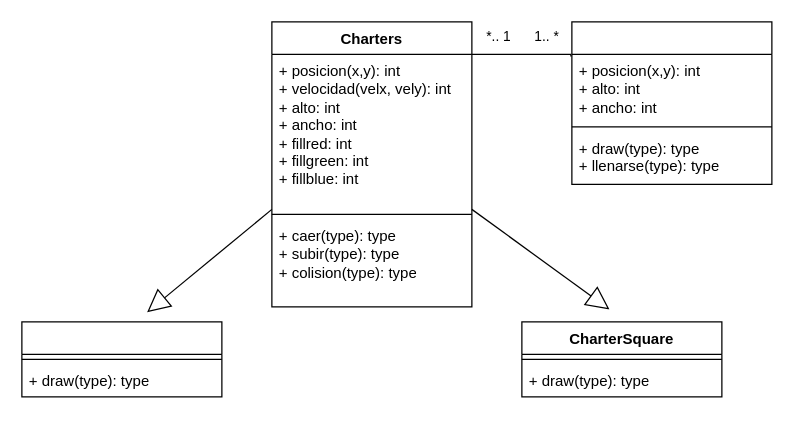
This 794x423 diagram has some shape labels left out. The shapes that lost their labels are listed below. From the top down, each one's box as (x1, y1, x2, y2) in pixels, then its label:
(571, 21, 772, 184): Lava
(21, 321, 222, 397): CharterCircle
